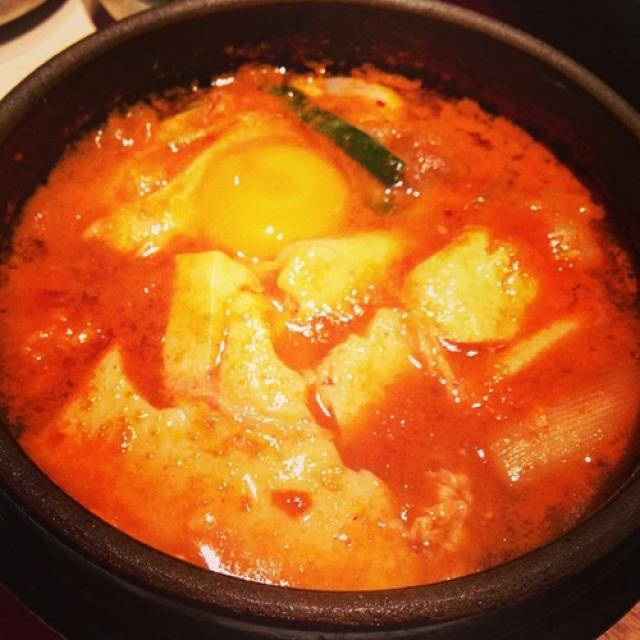汤锅炖物: (9, 0, 630, 623)
